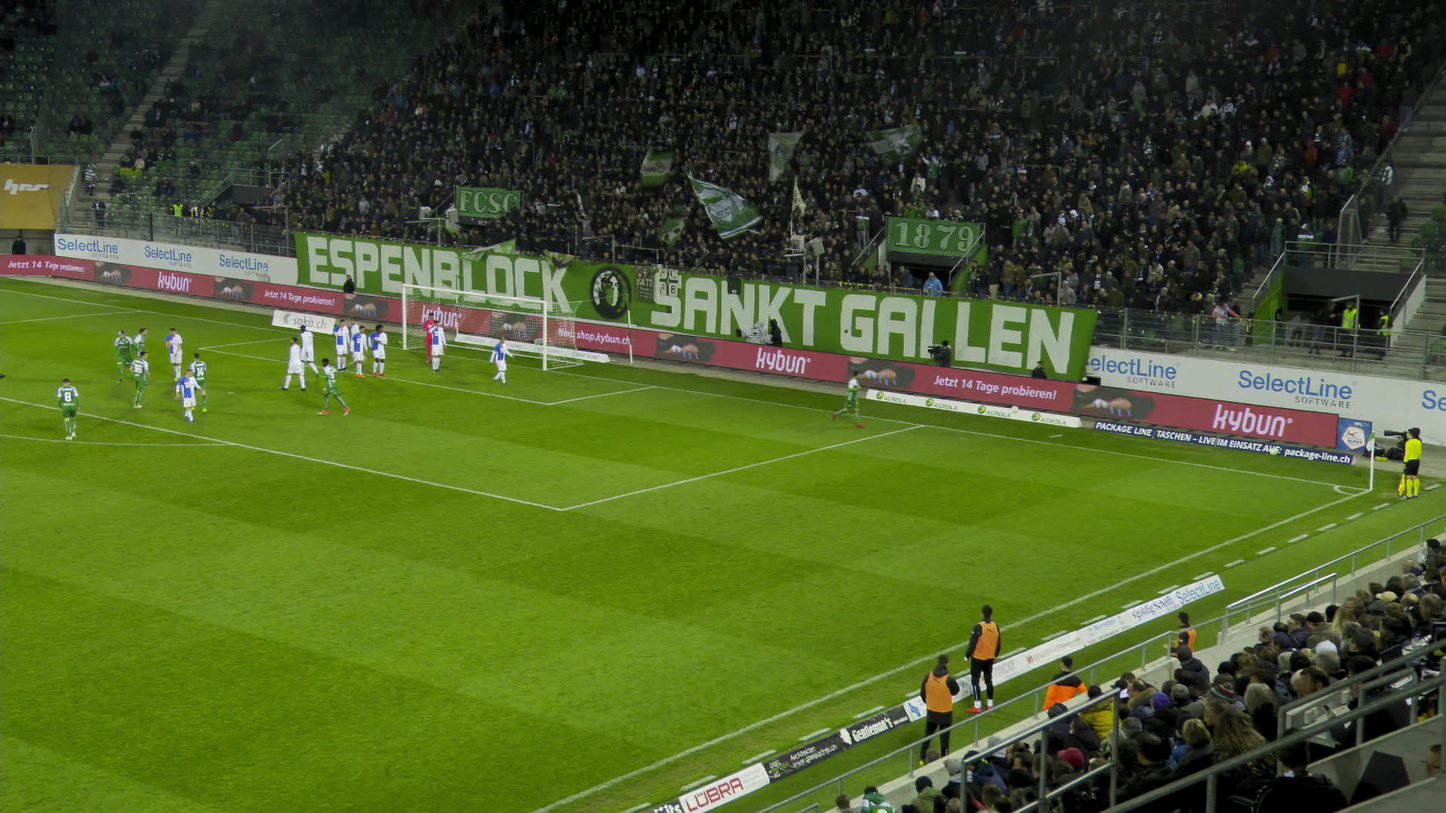ball: (1011, 405, 1018, 412)
player: (317, 360, 351, 416), (830, 370, 861, 428), (175, 369, 205, 425), (54, 378, 79, 441), (187, 354, 211, 413), (488, 336, 515, 385), (283, 336, 305, 391), (111, 330, 133, 383), (128, 351, 148, 409), (298, 324, 319, 378), (163, 327, 184, 381), (133, 327, 151, 386), (349, 324, 368, 378), (367, 324, 386, 376), (428, 320, 446, 373), (348, 318, 368, 364), (423, 312, 441, 362), (333, 318, 349, 370)
referee: (1397, 428, 1420, 499)
